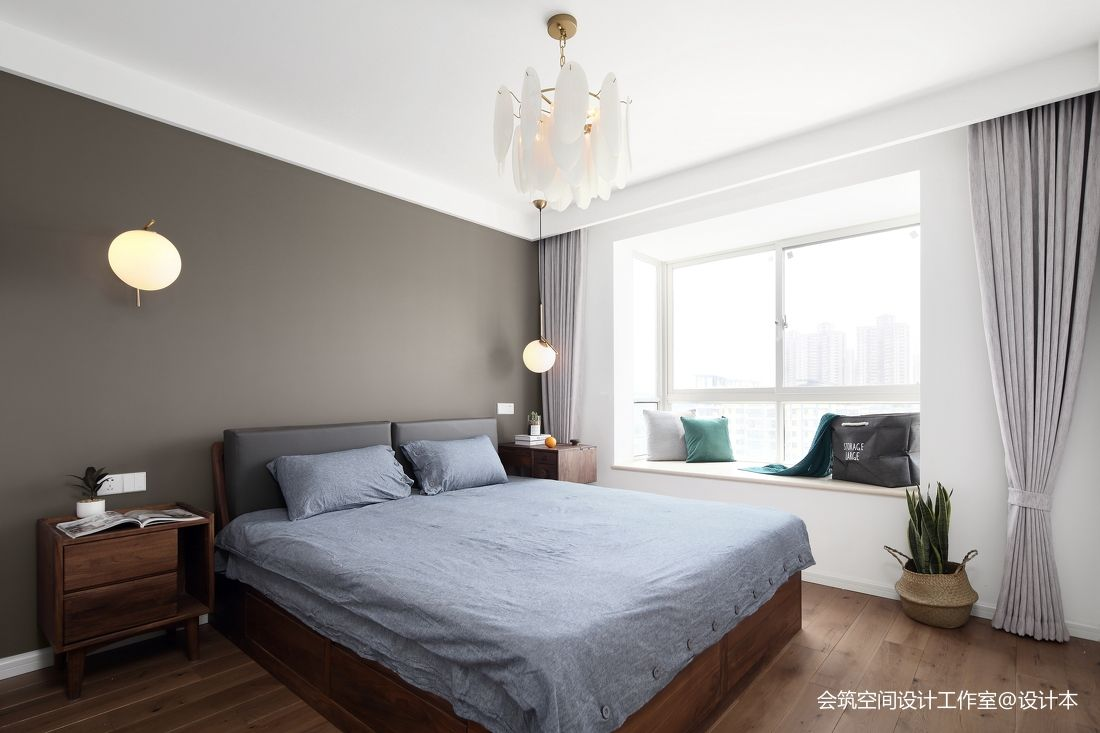床: (223, 481, 833, 717)
枕头: (260, 428, 510, 518), (631, 405, 750, 467)
灯: (489, 15, 639, 227), (101, 220, 182, 313), (513, 339, 554, 384)
